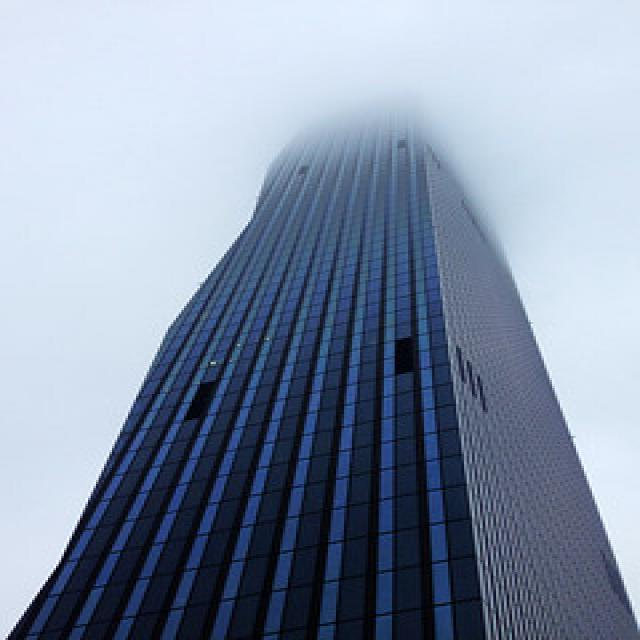Normal_building: (13, 92, 640, 640)
